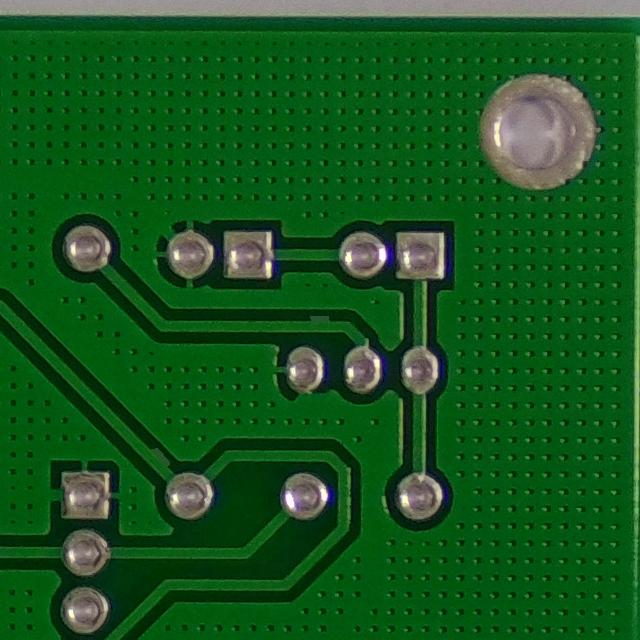spur: (302, 306, 339, 335)
